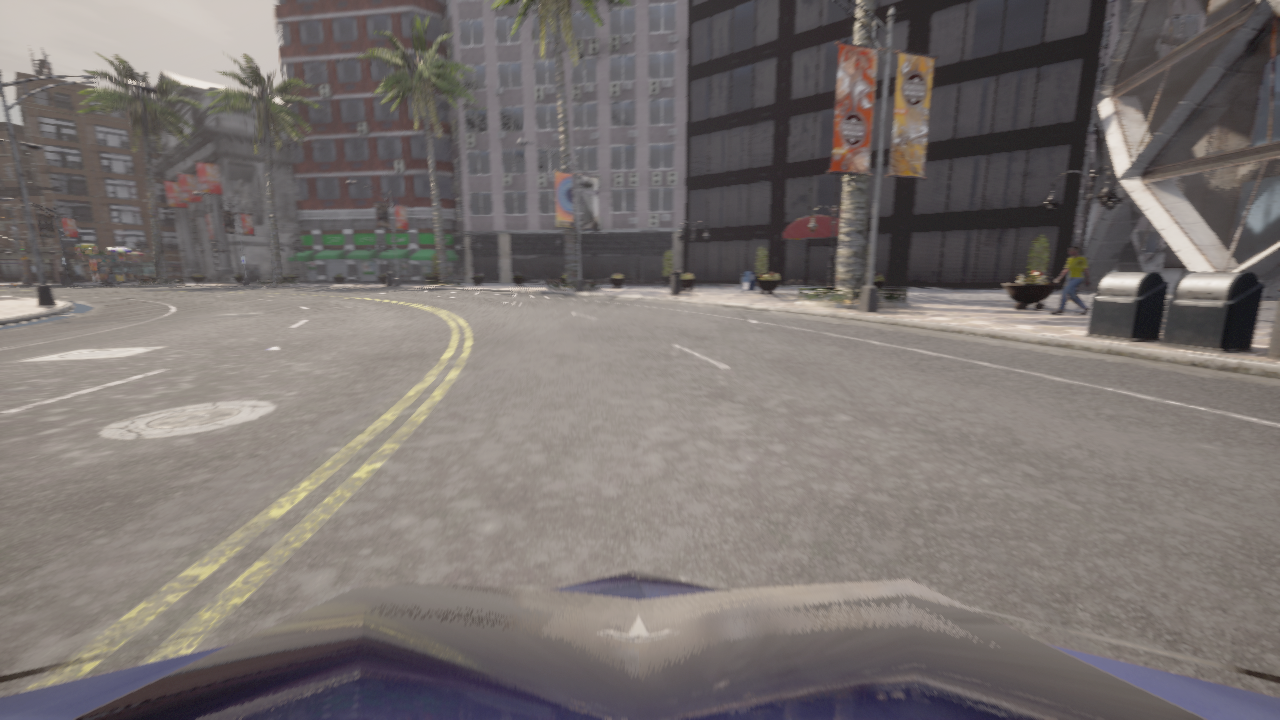cyclist: (0, 569, 1279, 719)
pedestrian: (1051, 245, 1090, 313)
